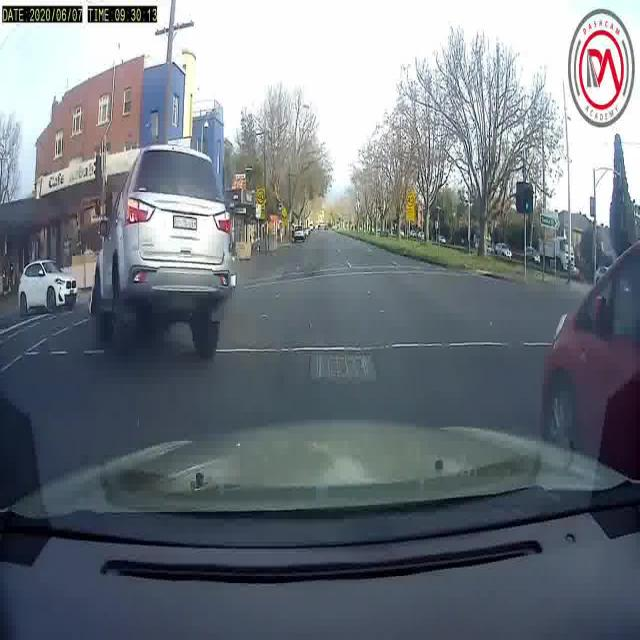Accident: (76, 125, 284, 335)
